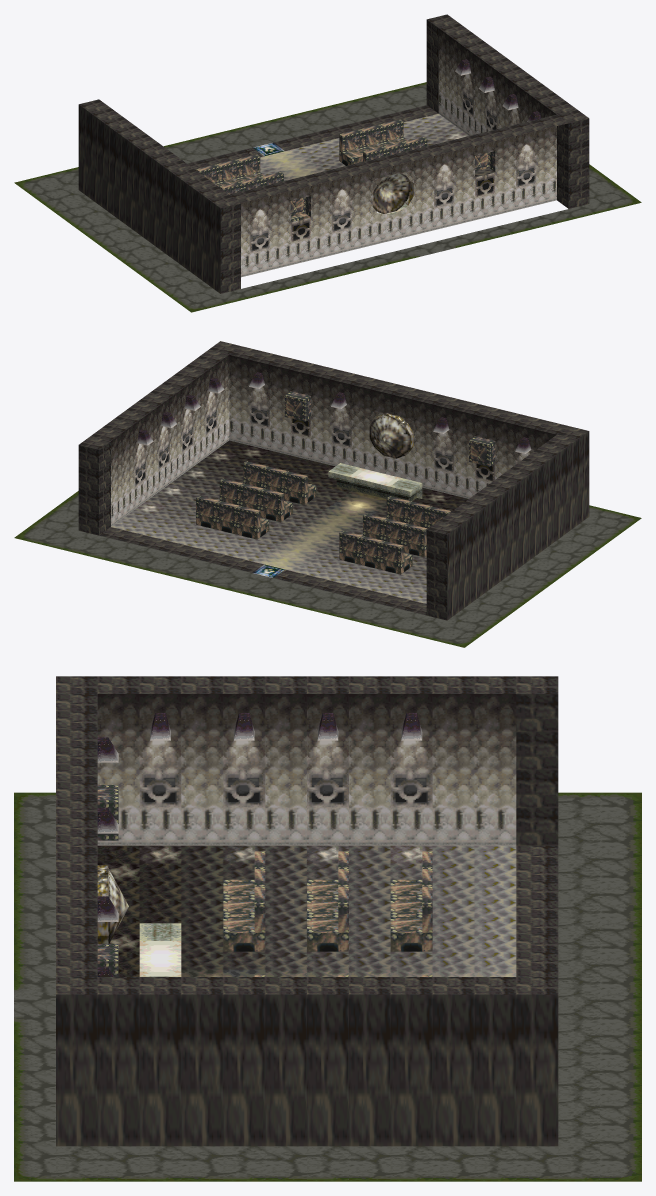
Rendered from catalog.obj.
3 views of the same model, one above another, from view 1: azimuth 30°, elevation 25°; view 2: azimuth 150°, elevation 25°; view 3: azimuth 270°, elevation 25° (orthographic). The views are drawn at different scales.
Parts seen in each view (by area): view 1: cell_9_9, cell_24_9, cell_16_9, cell_10_9, cell_18_9, cell_20_9, cell_22_9, cell_14_9, cell_11_9, cell_13_9, cell_19_9, cell_23_9 (+31 smaller); view 2: cell_25_19, cell_9_9, cell_12_9, cell_19_9, cell_8_19, cell_10_9, cell_13_9, cell_17_9, cell_11_9, cell_18_9, cell_20_9, cell_14_9 (+51 smaller); view 3: cell_8_9, cell_8_11, cell_24_11, cell_8_12, cell_8_16, cell_8_17, cell_24_17, cell_8_19, cell_24_19, cell_8_10, cell_8_18, cell_24_18 (+187 smaller).
Part boxes in pixels (x1,y1,x2,y2): cell_9_9: [536, 106, 589, 208]; cell_24_9: [220, 201, 249, 293]; cell_16_9: [384, 161, 413, 240]; cell_10_9: [516, 131, 536, 210]; cell_18_9: [352, 171, 372, 250]; cell_20_9: [311, 181, 331, 260]; cell_22_9: [270, 191, 290, 270]; cell_14_9: [434, 151, 454, 230]; cell_11_9: [495, 136, 515, 215]; cell_13_9: [454, 146, 474, 225]; cell_19_9: [331, 176, 351, 254]; cell_23_9: [249, 196, 269, 274]; cell_25_19: [426, 521, 458, 620]; cell_9_9: [217, 354, 249, 453]; cell_12_9: [279, 370, 310, 468]; cell_19_9: [423, 404, 454, 503]; cell_8_19: [78, 436, 110, 535]; cell_10_9: [238, 360, 269, 458]; cell_13_9: [300, 374, 331, 473]; cell_17_9: [384, 394, 413, 480]; cell_11_9: [259, 364, 290, 463]; cell_18_9: [413, 400, 433, 498]; cell_20_9: [443, 409, 474, 507]; cell_14_9: [320, 380, 351, 475]; cell_8_9: [97, 977, 139, 1146]; cell_8_11: [181, 977, 223, 1146]; cell_24_11: [181, 694, 223, 863]; cell_8_12: [223, 977, 265, 1146]; cell_8_16: [390, 977, 432, 1146]; cell_8_17: [432, 977, 474, 1146]; cell_24_17: [432, 694, 474, 863]; cell_8_19: [516, 977, 558, 1146]; cell_24_19: [516, 694, 558, 863]; cell_8_10: [139, 977, 181, 1146]; cell_8_18: [474, 977, 516, 1146]; cell_24_18: [474, 694, 516, 863].
Bounding box in the file's own units: 0.3438 × 0.0625 × 0.2344.
Materials: 42 (42 with a texture image).
